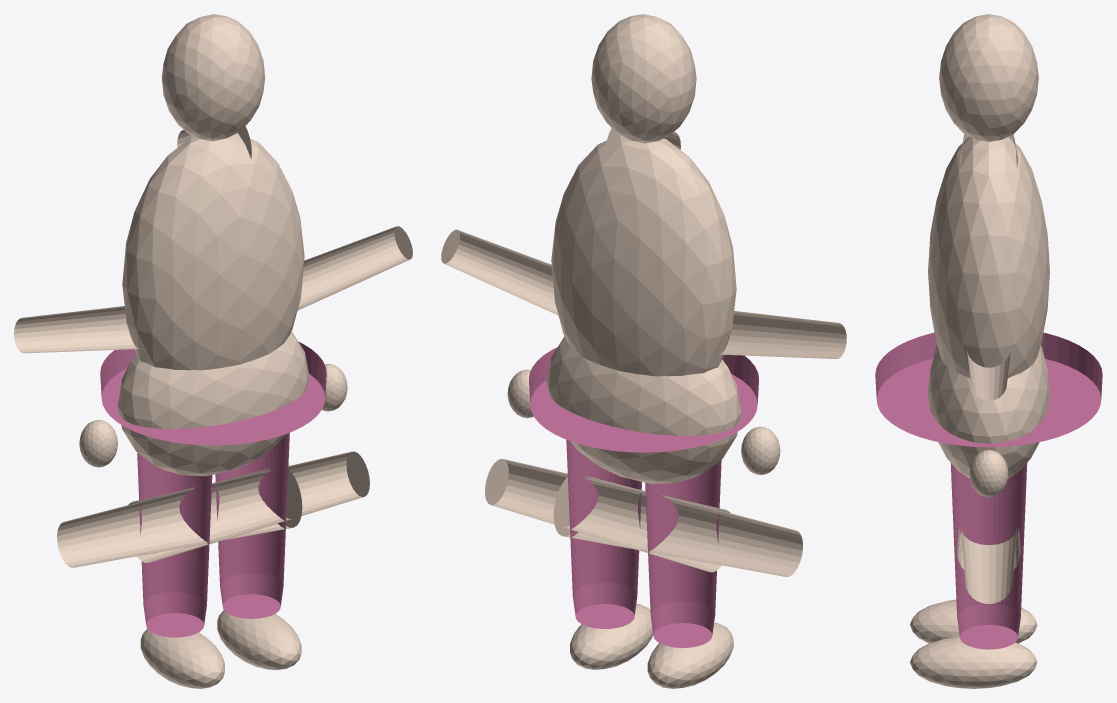
File: femenino-leggings.glb
3 views of the same model, side by side, from view 1: azimuth 30°, elevation 25°; view 2: azimuth 150°, elevation 25°; view 3: azimuth 270°, elevation 25° (orthographic).
Visible parts, largest first — view 1: Avatar0, Prenda, Avatar1, Avatar3, Avatar4, Avatar8, Avatar10, Avatar6, Avatar9, Avatar5, Avatar7, Avatar11; view 2: Avatar0, Prenda, Avatar1, Avatar3, Avatar4, Avatar8, Avatar10, Avatar6, Avatar5, Avatar9, Avatar7, Avatar11; view 3: Avatar0, Prenda, Avatar3, Avatar1, Avatar9, Avatar8, Avatar5, Avatar11, Avatar10, Avatar4.
Part boxes in pixels (left/top/right/bottom): Avatar0: left=122, top=133, right=304, bottom=370; Prenda: left=100, top=341, right=326, bottom=637; Avatar1: left=117, top=331, right=309, bottom=476; Avatar3: left=161, top=14, right=265, bottom=141; Avatar4: left=57, top=468, right=302, bottom=567; Avatar8: left=128, top=451, right=369, bottom=562; Avatar10: left=297, top=226, right=412, bottom=310; Avatar6: left=14, top=306, right=139, bottom=353; Avatar9: left=217, top=610, right=301, bottom=670; Avatar5: left=140, top=629, right=224, bottom=688; Avatar7: left=79, top=420, right=117, bottom=467; Avatar11: left=322, top=363, right=347, bottom=411; Avatar0: left=551, top=135, right=736, bottom=376; Prenda: left=529, top=347, right=758, bottom=647; Avatar1: left=546, top=336, right=741, bottom=483; Avatar3: left=591, top=14, right=696, bottom=143; Avatar4: left=553, top=476, right=802, bottom=576; Avatar8: left=485, top=459, right=730, bottom=572; Avatar10: left=441, top=229, right=558, bottom=315; Avatar6: left=719, top=311, right=846, bottom=358; Avatar5: left=647, top=622, right=733, bottom=688; Avatar9: left=570, top=603, right=653, bottom=669; Avatar7: left=741, top=426, right=780, bottom=475; Avatar11: left=507, top=369, right=533, bottom=418; Avatar0: left=928, top=136, right=1049, bottom=378; Prenda: left=875, top=332, right=1102, bottom=649; Avatar3: left=939, top=14, right=1038, bottom=141; Avatar1: left=928, top=345, right=1049, bottom=478; Avatar9: left=910, top=636, right=1037, bottom=688; Avatar8: left=961, top=528, right=1016, bottom=603; Avatar5: left=910, top=599, right=1037, bottom=643; Avatar11: left=969, top=449, right=1008, bottom=497; Avatar10: left=967, top=351, right=1010, bottom=400; Avatar4: left=957, top=527, right=1020, bottom=569.
Size of the model in its own units: 1.61 by 2.58 by 0.82.
